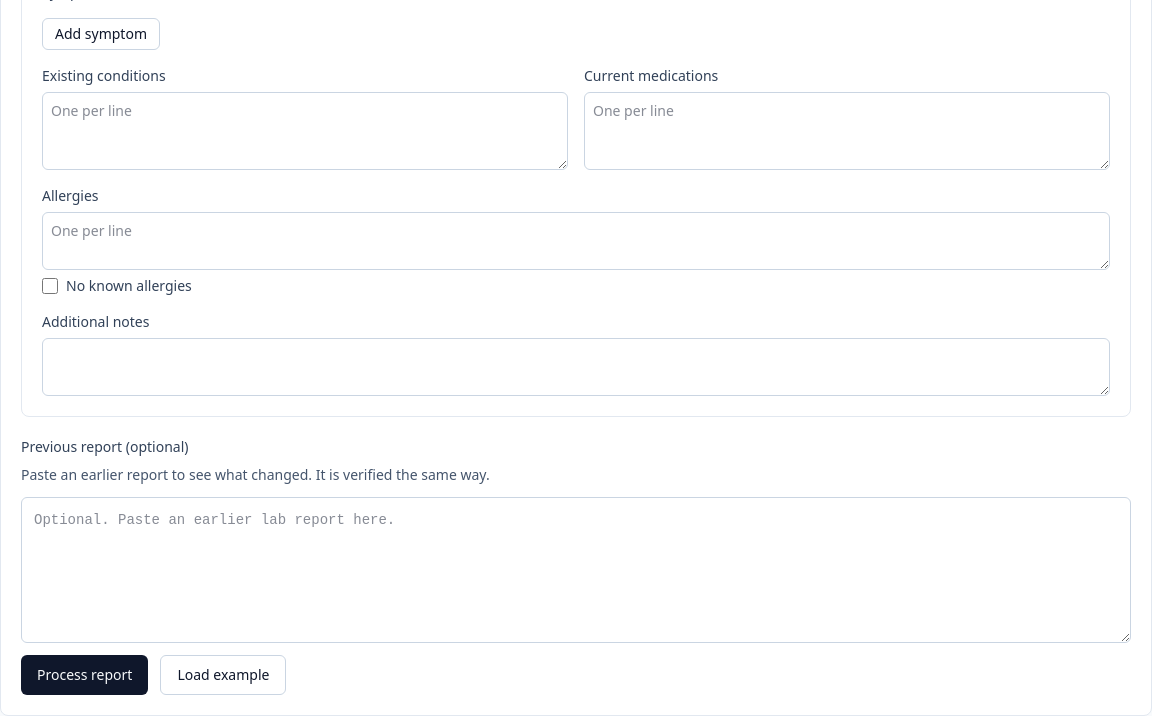
Test case: ReportAnalyzer — summary rendering › renders the summary section when the server returns one
(page scrolled)
Click the button "Load example" at (223, 675), box [160, 655, 286, 695]
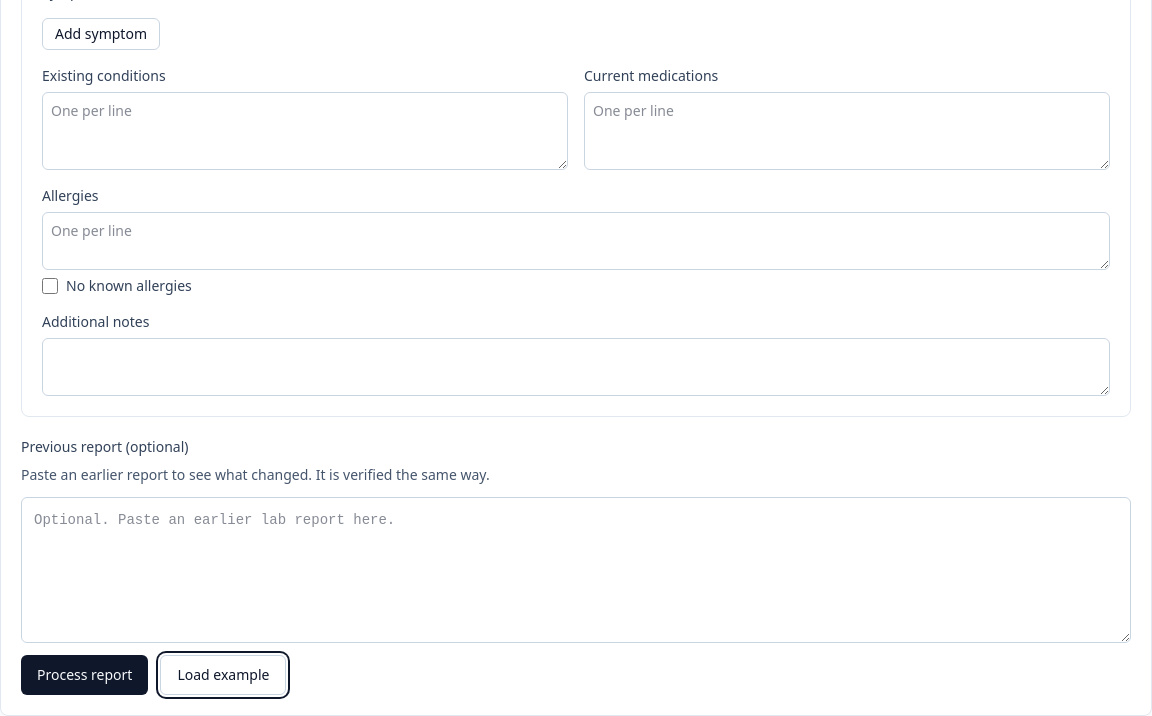
Click the button "Process report" at (85, 675), box [21, 655, 148, 695]
(page scrolled)
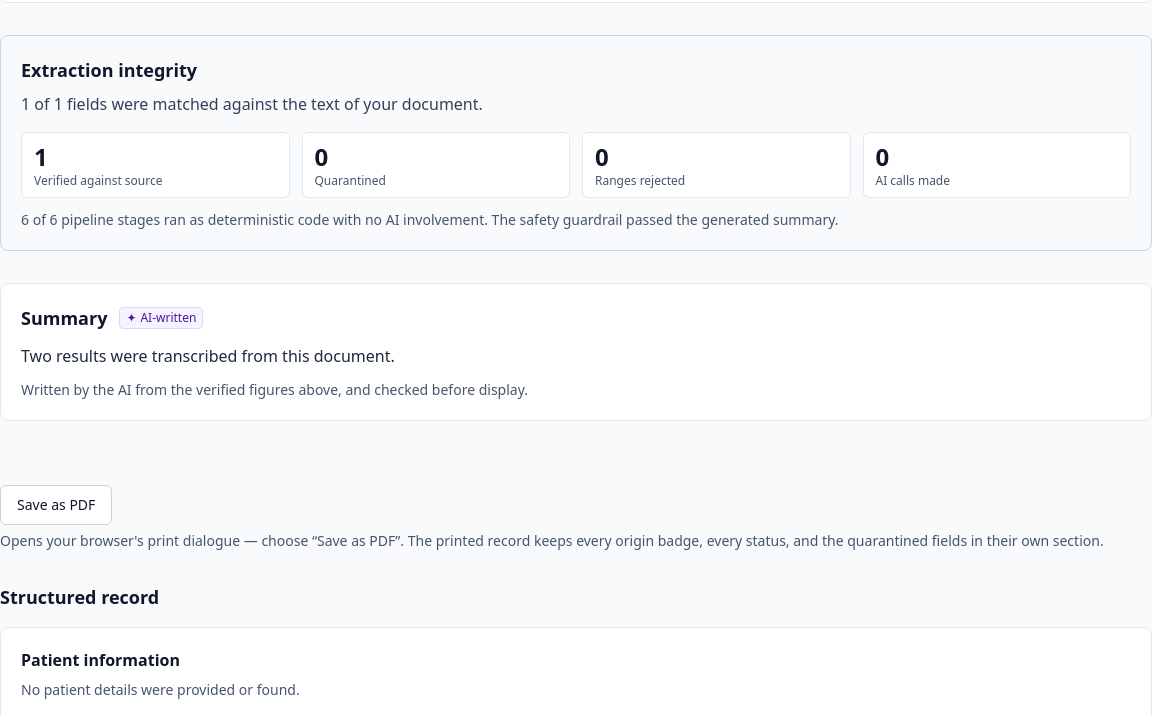
Result: the element "Summary" is shown at [0, 283, 1151, 421]
Result: the text "Two results were transcribed from this document." is shown at [21, 345, 395, 367]
